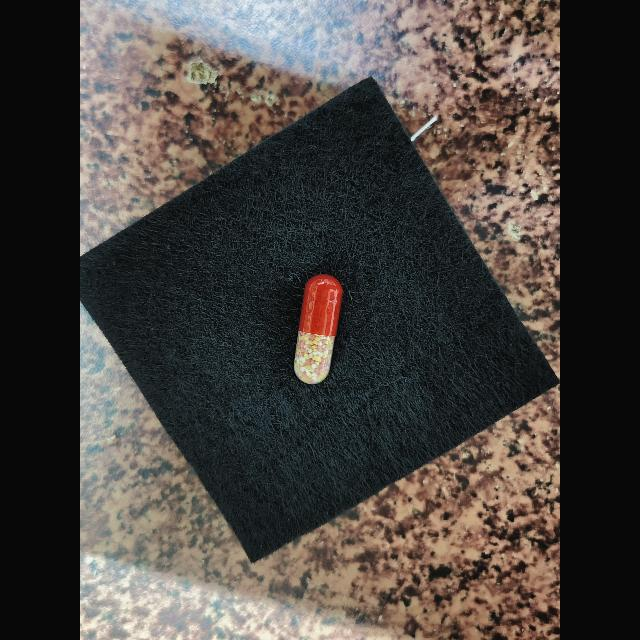Intact Capsule: (294, 274, 343, 384)
